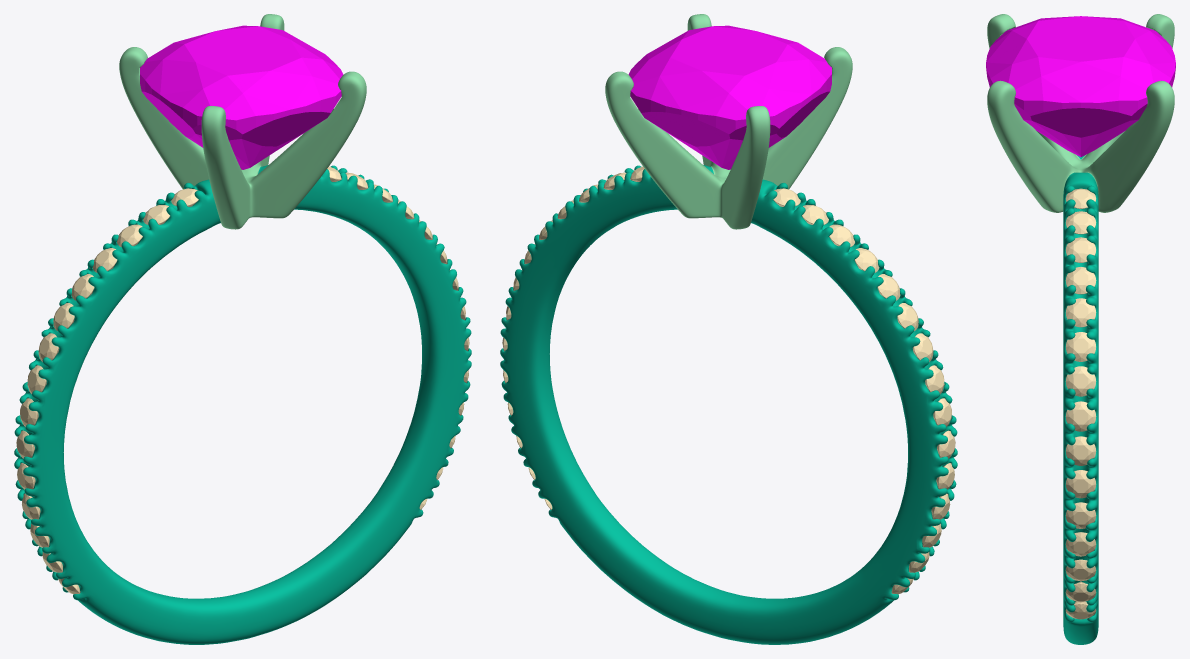
The model's file is BE164_CU_200ct_RENDER.glb.
3 views of the same model, side by side, from view 1: azimuth 30°, elevation 25°; view 2: azimuth 150°, elevation 25°; view 3: azimuth 270°, elevation 25° (orthographic).
Visible parts, largest first — view 1: Metal 01, CS_Diamond_Cushion, Metal 02; view 2: Metal 01, CS_Diamond_Cushion, Metal 02; view 3: CS_Diamond_Cushion, Metal 02, Metal 01, Diamond_Round_Gem_SH.006, Diamond_Round_Gem_SH.007, Diamond_Round_Gem_SH.008, Diamond_Round_Gem_SH.005, Diamond_Round_Gem_SH.004, Diamond_Round_Gem_SH.009, Diamond_Round_Gem_SH.003, Diamond_Round_Gem_SH.010, Diamond_Round_Gem_SH.002 (+6 smaller).
Boxes of the visible parts, x1,y1,x2,y2 form: Metal 01: (14,165,471,644); CS_Diamond_Cushion: (140,25,343,169); Metal 02: (119,14,366,229); Metal 01: (500,165,957,644); CS_Diamond_Cushion: (628,25,831,169); Metal 02: (605,14,852,229); CS_Diamond_Cushion: (986,16,1175,156); Metal 02: (987,14,1174,212); Metal 01: (1063,155,1098,644); Diamond_Round_Gem_SH.006: (1065,366,1096,396); Diamond_Round_Gem_SH.007: (1065,401,1096,431); Diamond_Round_Gem_SH.008: (1065,436,1096,465); Diamond_Round_Gem_SH.005: (1066,332,1095,361); Diamond_Round_Gem_SH.004: (1065,298,1096,327); Diamond_Round_Gem_SH.009: (1065,470,1096,498); Diamond_Round_Gem_SH.003: (1065,267,1096,294); Diamond_Round_Gem_SH.010: (1065,502,1096,528); Diamond_Round_Gem_SH.002: (1065,237,1096,262).
Bounding box in the file's own units: 20.28 × 25.38 × 7.5.
